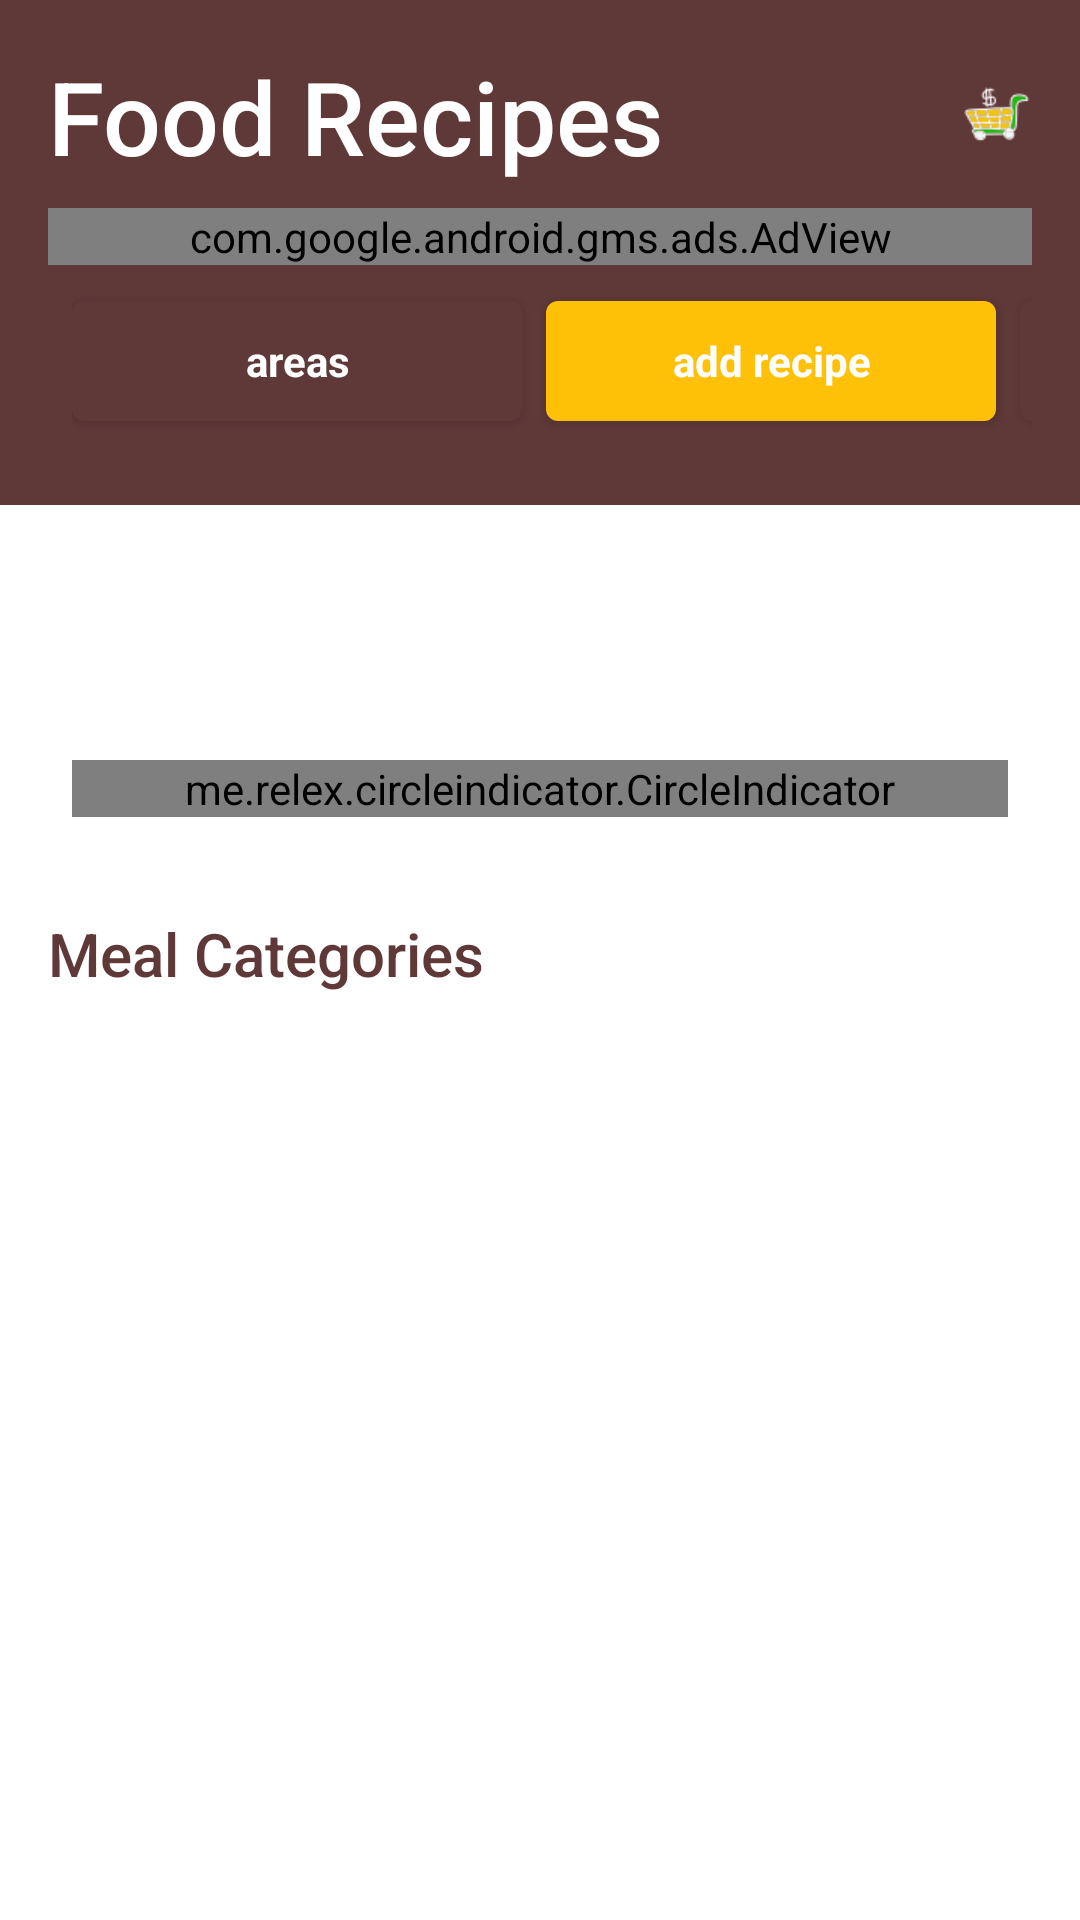

Icon bounding boxes for this 1080×1920 phone screenshot, format (x1, y1, x2, y2):
shopping cart: (964, 87, 1029, 141)
